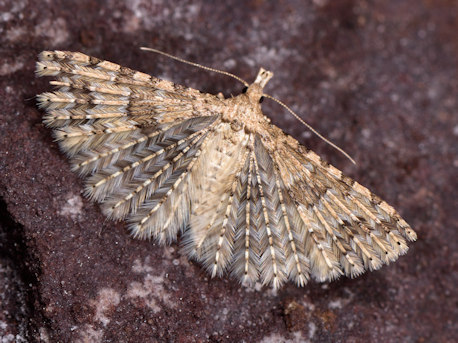Alucitidae: (29, 35, 417, 302)
moth: (27, 33, 415, 300)
